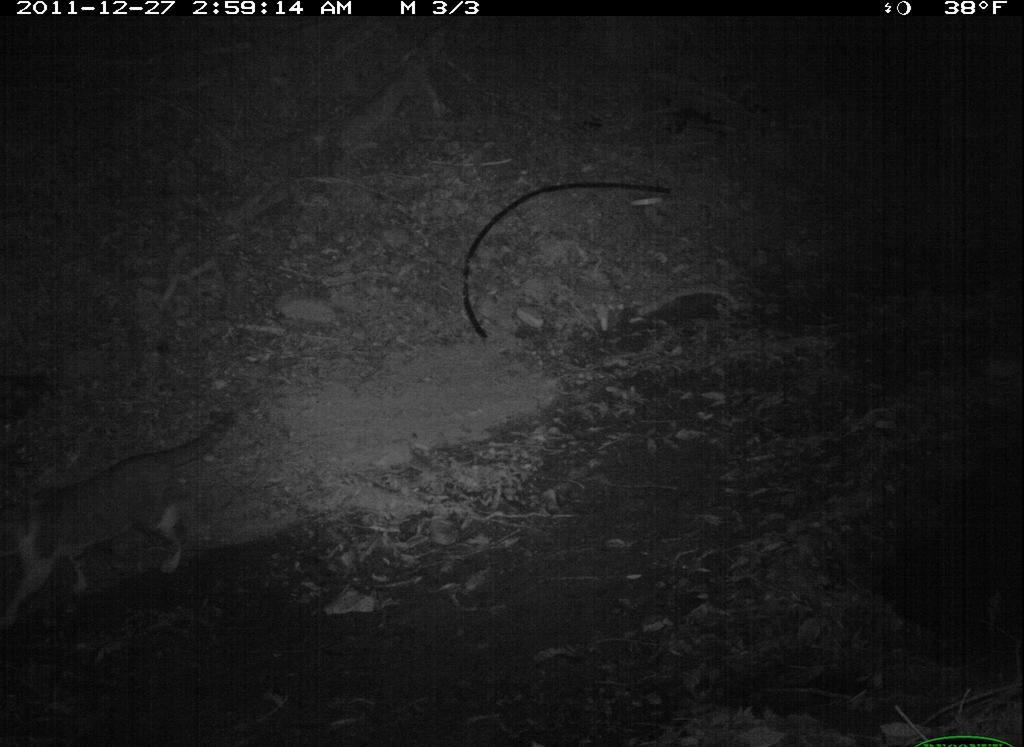cat: (4, 411, 259, 628)
